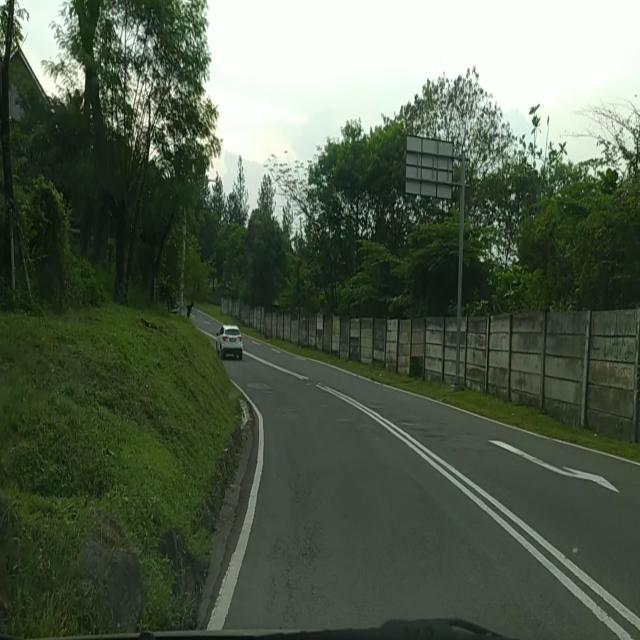Drain Hole: (268, 462, 322, 628)
